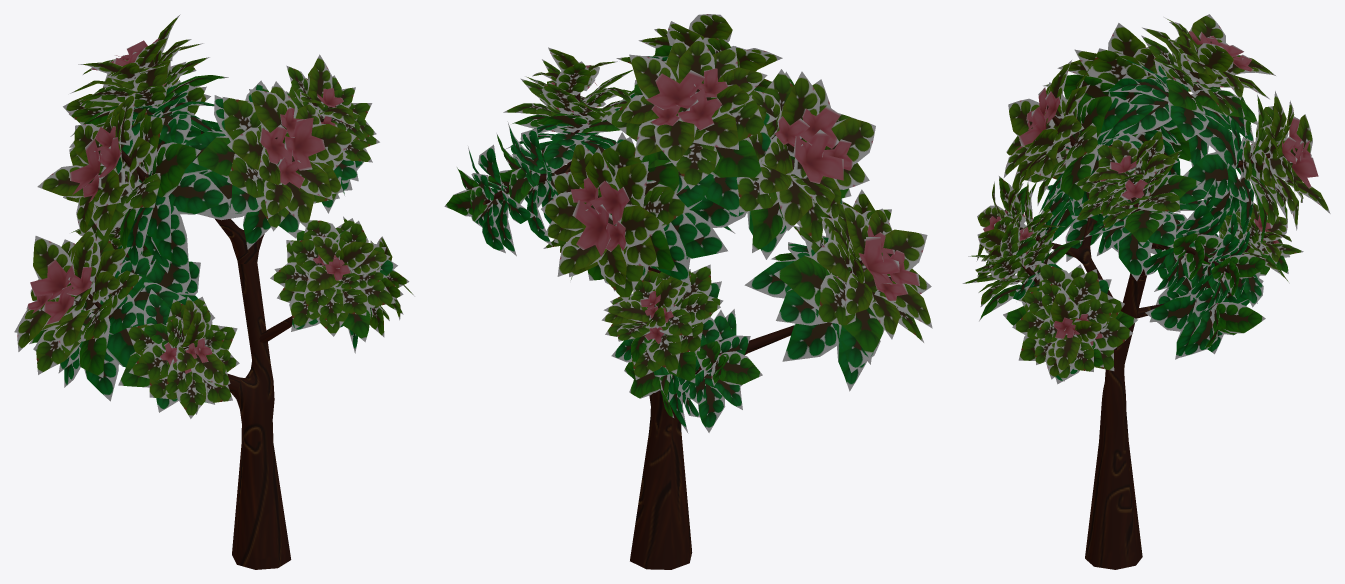
Rendered from Town_Trees_DarkGreen_2.glb.
3 views of the same model, side by side, from view 1: azimuth 30°, elevation 25°; view 2: azimuth 150°, elevation 25°; view 3: azimuth 270°, elevation 25° (orthographic). The views are drawn at different scales.
Parts seen in each view (by area): view 1: Object_20.001; view 2: Object_20.001; view 3: Object_20.001.
Boxes of the visible parts, box(x1,y1,x2,y2) form: Object_20.001: box(14, 14, 414, 569); Object_20.001: box(444, 14, 932, 569); Object_20.001: box(962, 14, 1330, 569).
Size of the model in its own units: 93.05 by 119 by 78.84.
